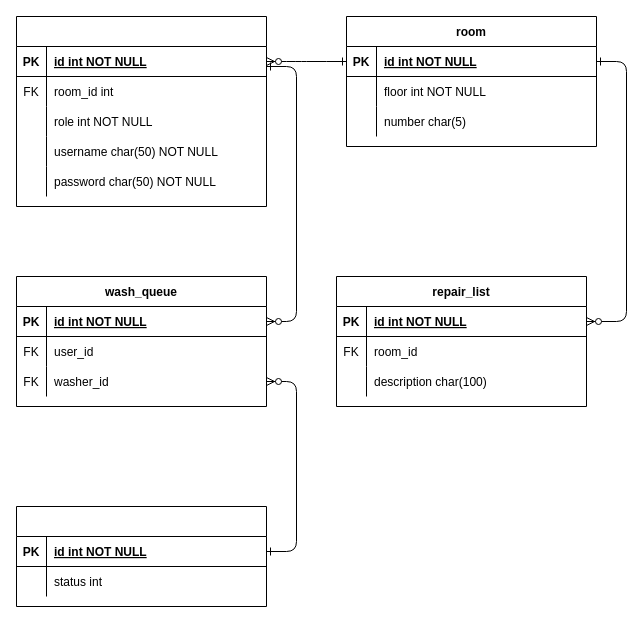
The diagram is 643 pixels wide and 623 high, and some of its shapes have lost their labels. Here are the shapes that lost their labels. From the top down, the box of each, then its label:
(16, 16, 266, 206): authuser
(16, 506, 266, 606): washer
